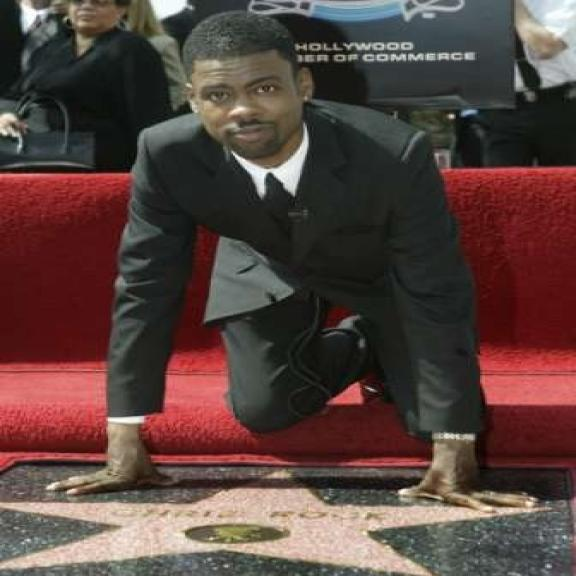face: (172, 48, 324, 164), (60, 0, 137, 40)
